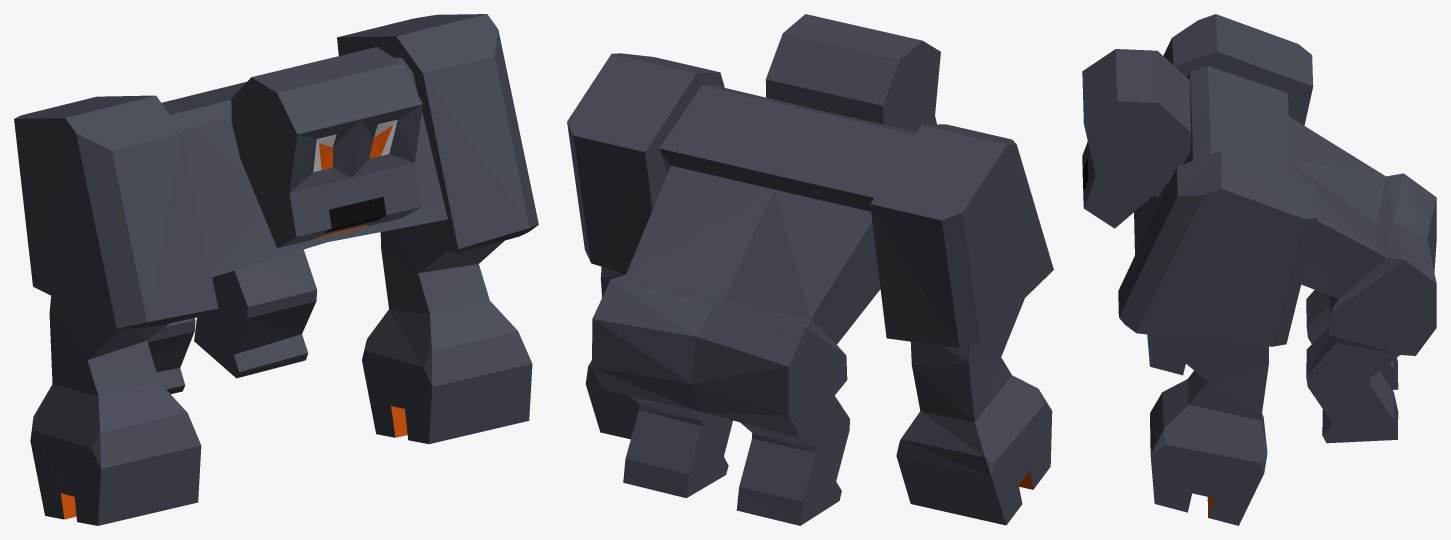
The model's file is kong_000019.obj.
3 views of the same model, side by side, from view 1: azimuth 30°, elevation 25°; view 2: azimuth 150°, elevation 25°; view 3: azimuth 270°, elevation 25° (orthographic). The views are drawn at different scales.
Visible parts, largest first — view 1: Cube; view 2: Cube; view 3: Cube.
Boxes of the visible parts, left/top/right/bottom form: Cube: left=14, top=14, right=538, bottom=525; Cube: left=567, top=14, right=1053, bottom=525; Cube: left=1082, top=14, right=1436, bottom=525.
Bounding box in the file's own units: 5.85 × 5.6 × 4.93.
Materials: 1 (1 with a texture image).
